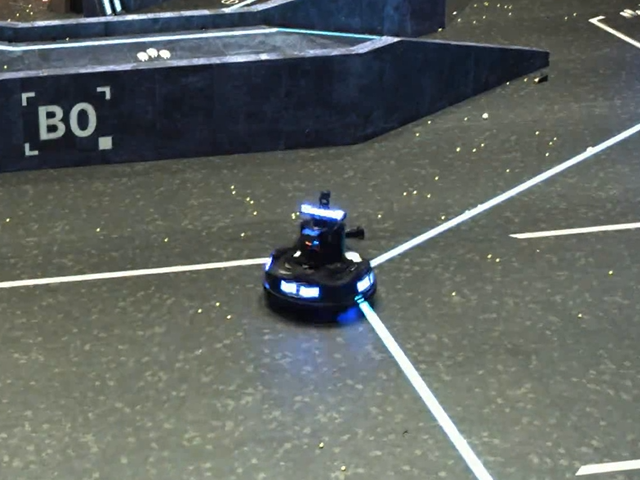rm: (261, 197, 375, 330)
